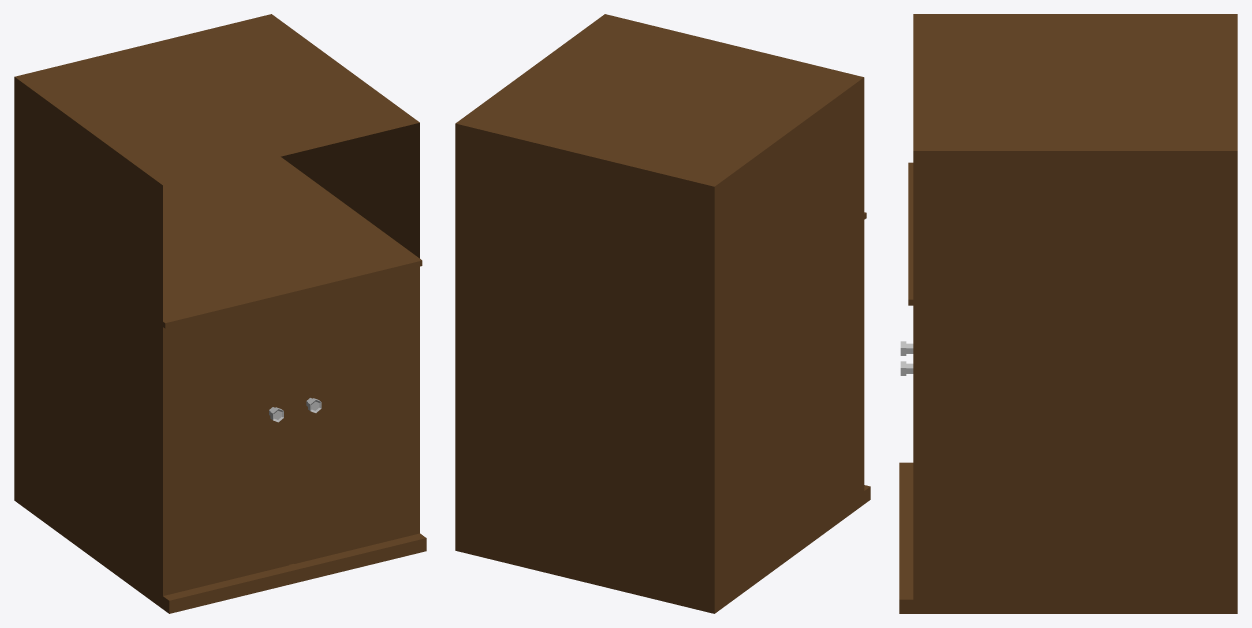
Rendered from locker1.fbx.
The picture shows the model from 3 angles, left to right: view 1: azimuth 30°, elevation 25°; view 2: azimuth 150°, elevation 25°; view 3: azimuth 270°, elevation 25°; orthographic projection. The views are drawn at different scales.
Visible parts, largest first — view 1: Cube.012; view 2: Cube.012; view 3: Cube.012.
Boxes of the visible parts, left/top/right/bottom form: Cube.012: left=14, top=14, right=426, bottom=613; Cube.012: left=455, top=14, right=870, bottom=613; Cube.012: left=899, top=14, right=1237, bottom=613.
Size of the model in its own units: 2000 by 3150 by 2085.
